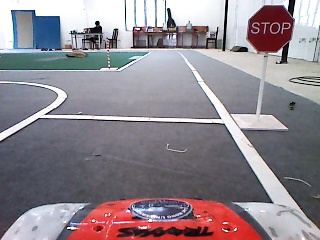stop: (244, 2, 297, 57)
